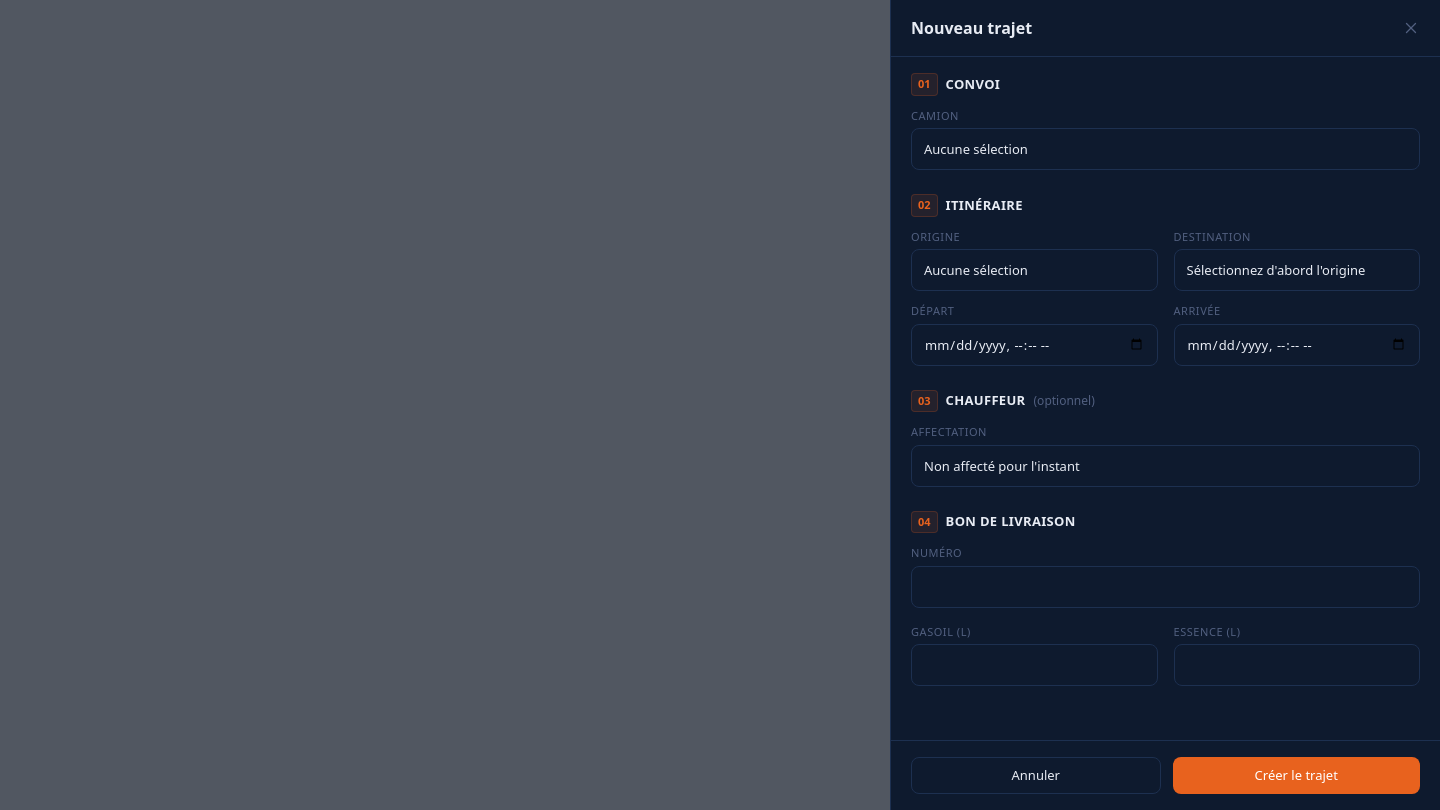
NewTripDrawer › when open › pairing card › shows the truck plate and tank summary once a truck with a tank is selected
The width and height of the screenshot is (1440, 810).
Focus the dropdown labelled "Camion": (1166, 149) [911,128,1420,170]
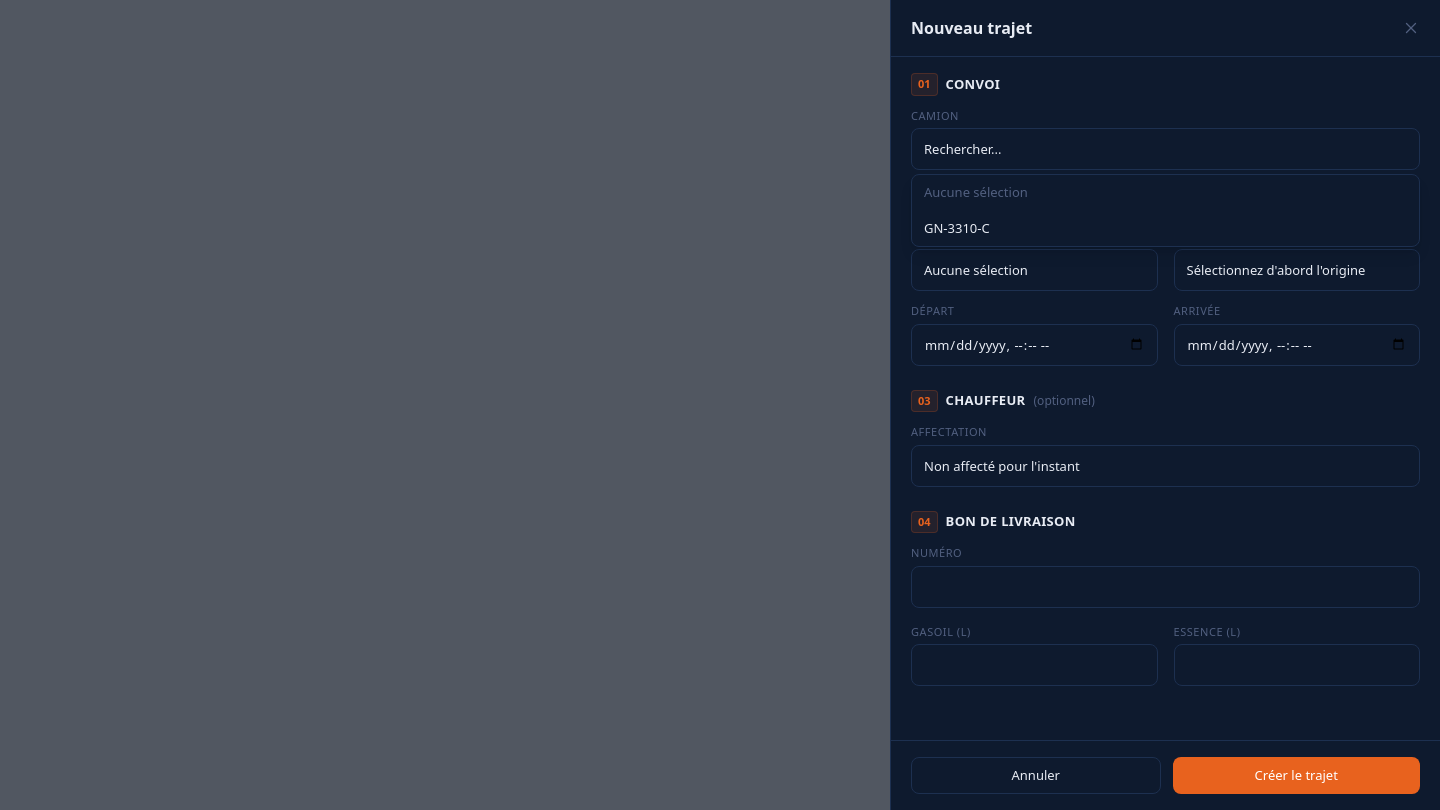
Check: the button "GN-3310-C" is shown
Press the mouse on the button "GN-3310-C": (957, 228) [912,210,1419,246]
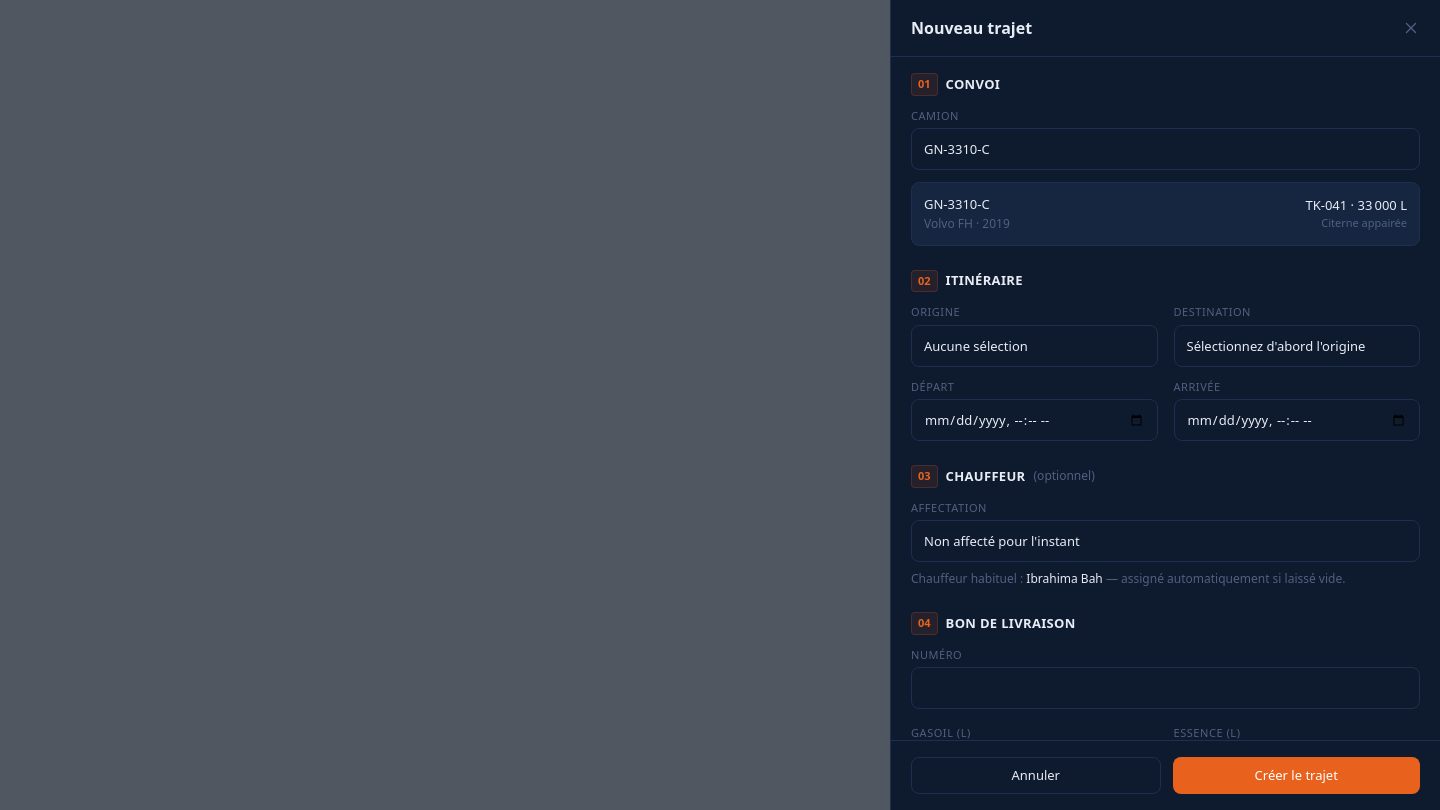
Check: the text "TK-041 · 33 000 L" is shown, box [1306,196,1407,215]
